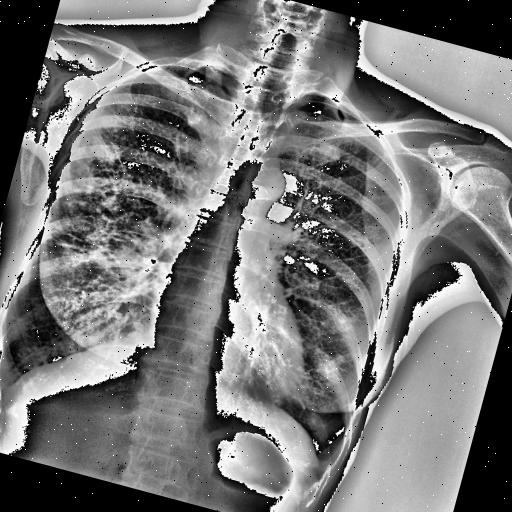11- Pleural thickening: (308, 453, 337, 489)
13- Pulmonary fibrosis: (28, 128, 196, 332), (34, 132, 180, 314)
5- ILD: (28, 128, 196, 332), (34, 132, 180, 314), (23, 160, 155, 344)
